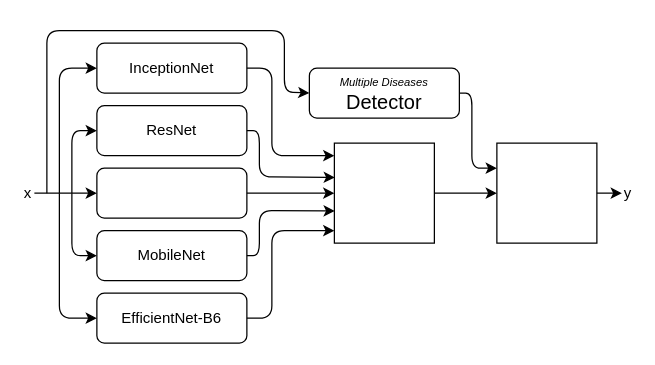
Some shapes in this 655 by 365 pixel diagram are drawn without their labels. Here are the shapes that lost their labels. From the top down, the centre of each, then its label:
At [171,192]: "DenseNet".
At [383,192]: "Simple-Average Ensemble".
At [546,192]: "Combine Classifiers".
